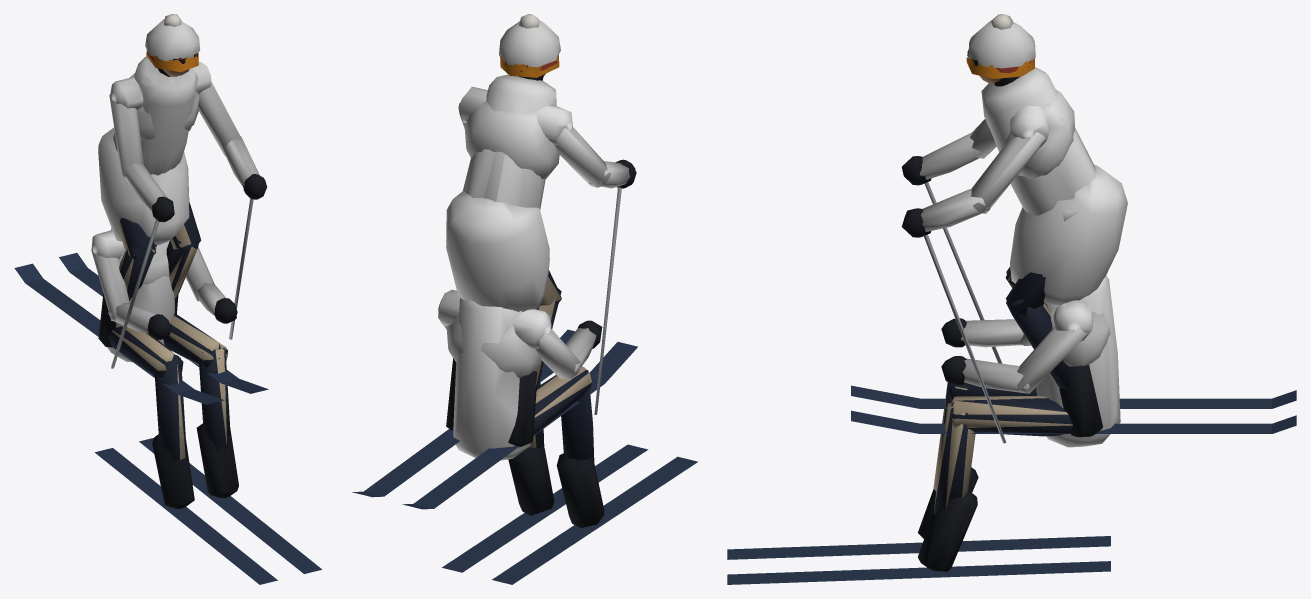
File: skiers_npc.glb
3 renders of one model, left to right at view 1: azimuth 30°, elevation 25°; view 2: azimuth 150°, elevation 25°; view 3: azimuth 270°, elevation 25°, orthographic. The views are drawn at different scales.
Parts seen in each view (by area): view 1: npc_seat_body, npc_ski_body, npc_ski_jacket, npc_ski_jacket_b, npc_seat_jacket, npc_seat_body_b, npc_ski_body_b; view 2: npc_seat_body, npc_seat_jacket, npc_ski_jacket_b, npc_ski_body, npc_ski_jacket, npc_seat_body_b, npc_ski_body_b; view 3: npc_ski_body, npc_seat_body, npc_ski_jacket, npc_ski_jacket_b, npc_seat_jacket, npc_seat_body_b, npc_ski_body_b.
Part boxes in pixels (bbox=[...]): npc_seat_body: bbox=[95, 298, 321, 584]; npc_ski_body: bbox=[14, 19, 268, 404]; npc_ski_jacket: bbox=[109, 56, 259, 211]; npc_ski_jacket_b: bbox=[98, 57, 197, 245]; npc_seat_jacket: bbox=[91, 228, 226, 362]; npc_seat_body_b: bbox=[112, 304, 237, 505]; npc_ski_body_b: bbox=[119, 14, 245, 313]; npc_seat_body: bbox=[442, 320, 697, 584]; npc_seat_jacket: bbox=[438, 289, 596, 460]; npc_ski_jacket_b: bbox=[446, 81, 627, 311]; npc_ski_body: bbox=[352, 20, 637, 509]; npc_ski_jacket: bbox=[458, 74, 630, 224]; npc_seat_body_b: bbox=[528, 325, 604, 523]; npc_ski_body_b: bbox=[503, 14, 636, 388]; npc_ski_body: bbox=[851, 21, 1296, 443]; npc_seat_body: bbox=[727, 318, 1110, 584]; npc_ski_jacket: bbox=[919, 67, 1095, 231]; npc_ski_jacket_b: bbox=[922, 67, 1127, 305]; npc_seat_jacket: bbox=[961, 275, 1120, 447]; npc_seat_body_b: bbox=[933, 325, 1072, 510]; npc_ski_body_b: bbox=[902, 14, 1075, 436].
Bounding box in the file's own units: 0.6546 × 2.46 × 2.3.
